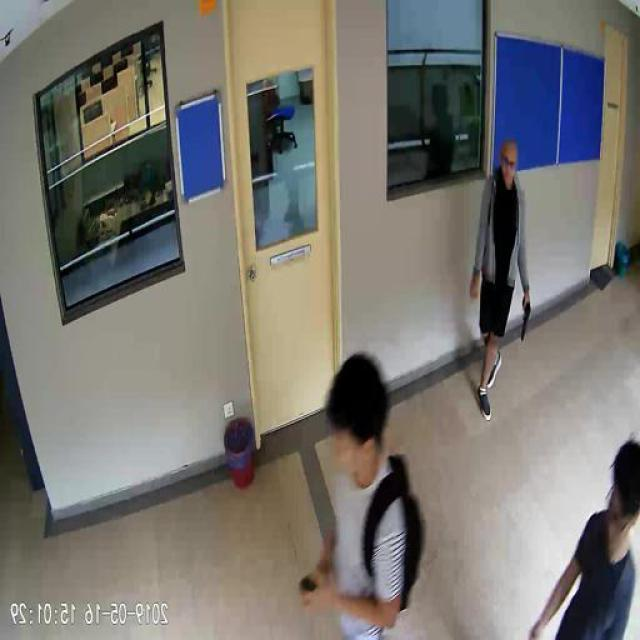Gun: (522, 294, 534, 340)
